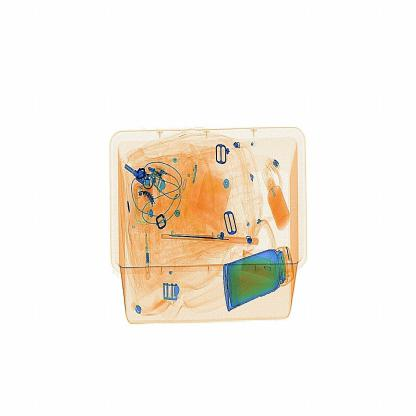wrench: (158, 226, 270, 256)
